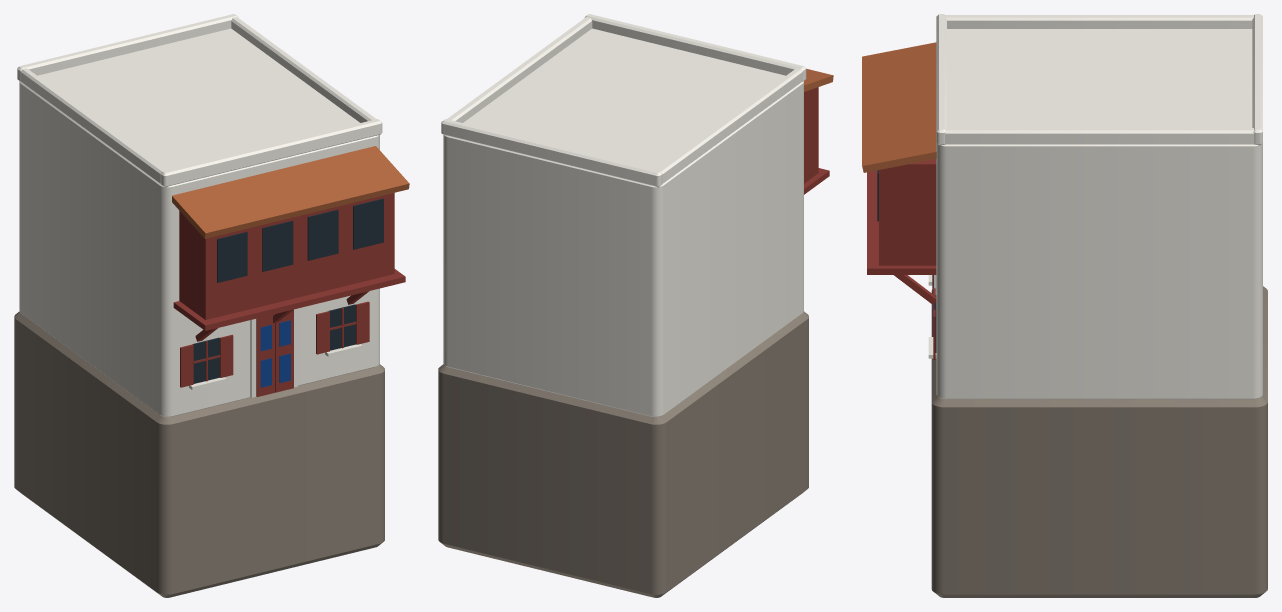
The model's file is sea-red.glb.
3 renders of one model, left to right at view 1: azimuth 30°, elevation 25°; view 2: azimuth 150°, elevation 25°; view 3: azimuth 270°, elevation 25°, orthographic. The views are drawn at different scales.
Parts seen in each view (by area): view 1: white1, stone0, paint28, tile34, white2, white3, paint33, white4, white5, pane30, pane31, pane32 (+10 smaller); view 2: white1, stone0, white3, white2, white4, white5, paint28; view 3: white1, stone0, tile34, paint28, white5, white4, paint33, white2, white3.
Boxes of the visible parts, x1,y1,x2,y2 form: white1: (19,28,379,416); stone0: (14,311,384,597); paint28: (179,193,394,319); tile34: (172,146,409,238); white2: (160,119,382,187); white3: (17,14,238,81); paint33: (173,269,405,330); white4: (20,68,166,183); white5: (231,17,376,122); pane30: (262,220,293,271); pane31: (307,209,338,260); pane32: (353,198,383,249); white1: (443,28,803,416); stone0: (438,311,808,597); white3: (441,119,662,187); white2: (584,14,806,81); white4: (657,68,803,183); white5: (447,17,592,122); paint28: (804,87,818,183); white1: (936,29,1262,399); stone0: (931,286,1267,597); tile34: (862,42,936,172); paint28: (879,159,936,265); white5: (945,128,1254,144); white4: (945,15,1253,28); paint33: (867,170,936,274); white2: (936,14,946,145); white3: (1252,14,1262,145).
Bounding box in the file's own units: 6 × 10.76 × 8.45.
